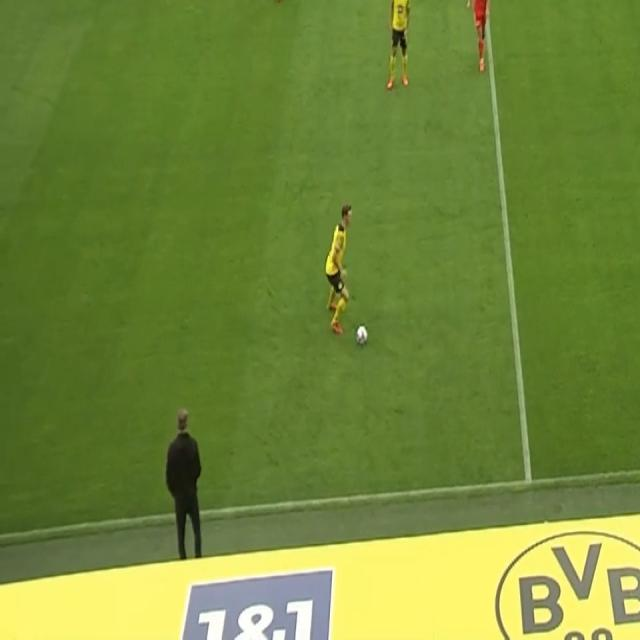ball: (355, 323, 369, 348)
